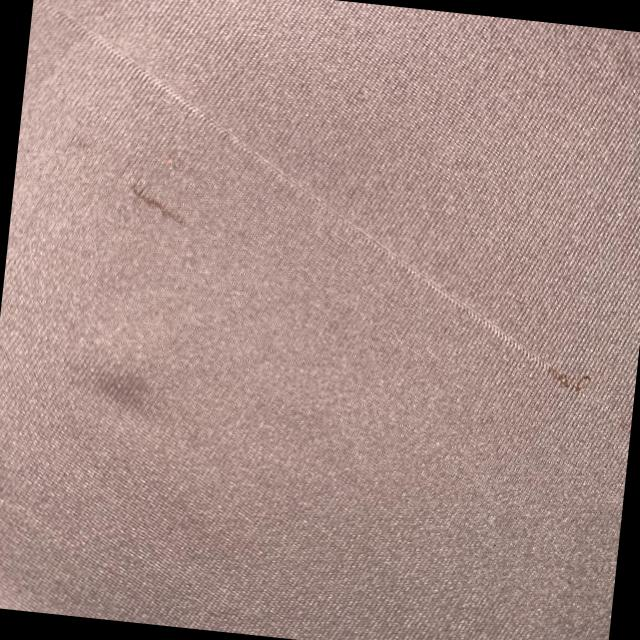Stain: (66, 358, 157, 422), (120, 178, 192, 226)
Warp_Weft: (0, 0, 627, 396)
